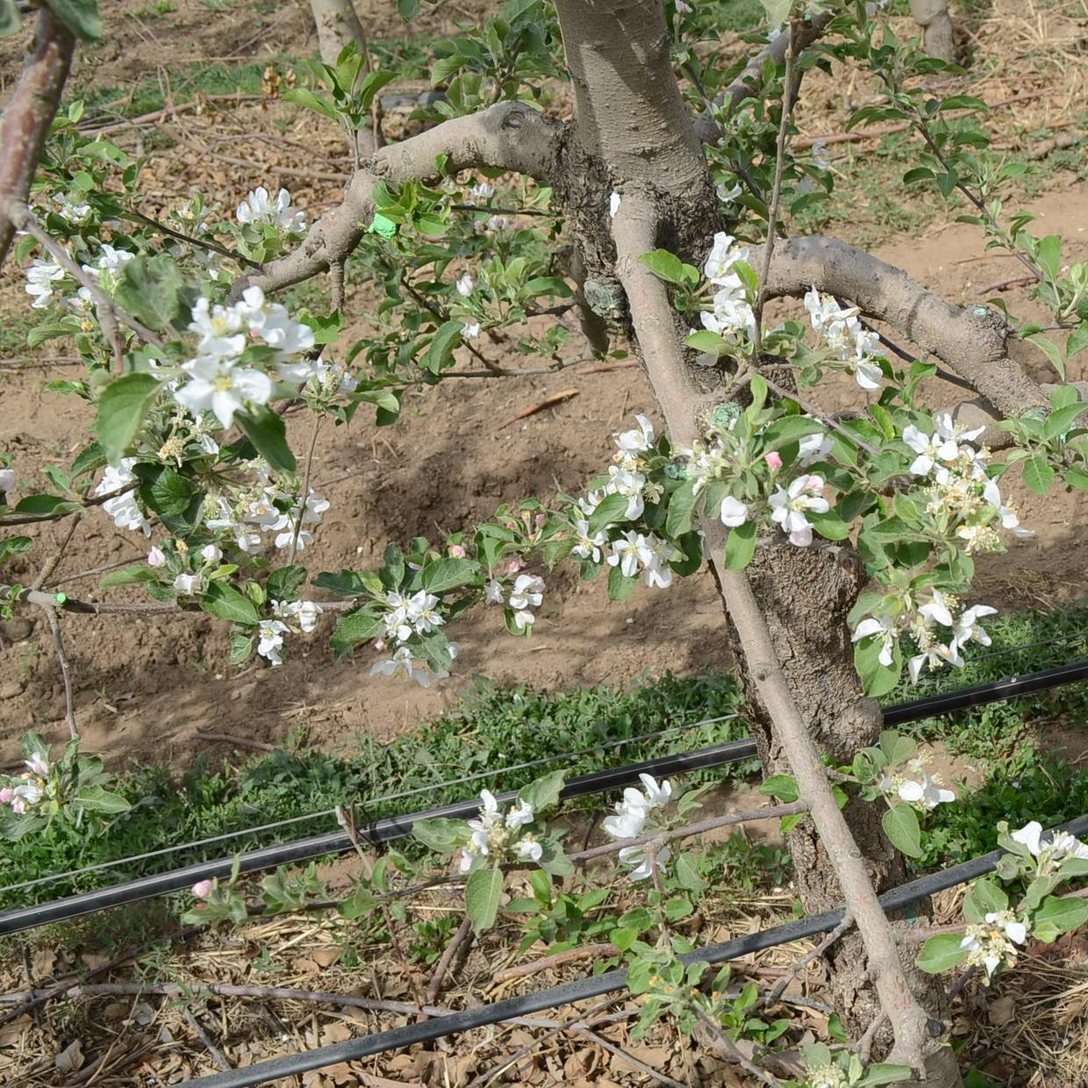apple_flower: (170, 285, 311, 426), (902, 412, 1031, 552), (198, 458, 326, 554), (575, 413, 674, 519), (803, 286, 888, 389), (907, 588, 996, 682), (569, 513, 676, 585), (455, 788, 541, 873), (700, 229, 755, 337), (960, 908, 1029, 977), (89, 455, 147, 533), (602, 772, 670, 838), (254, 597, 320, 664), (769, 472, 831, 543), (874, 757, 956, 810), (483, 559, 543, 630), (1011, 820, 1088, 874), (233, 184, 303, 231), (381, 589, 440, 642), (0, 749, 48, 812), (367, 645, 431, 686), (851, 615, 899, 664), (683, 440, 727, 490), (20, 257, 64, 305), (304, 353, 354, 389), (618, 844, 665, 880), (80, 242, 119, 280), (794, 431, 835, 464), (169, 568, 207, 595), (719, 492, 748, 526), (464, 168, 493, 198), (143, 543, 167, 567), (453, 269, 474, 295), (196, 540, 219, 563), (458, 315, 480, 339), (763, 445, 784, 469), (188, 878, 213, 897)
